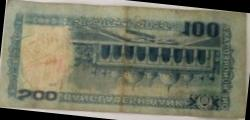100 taka: (7, 1, 244, 115)
